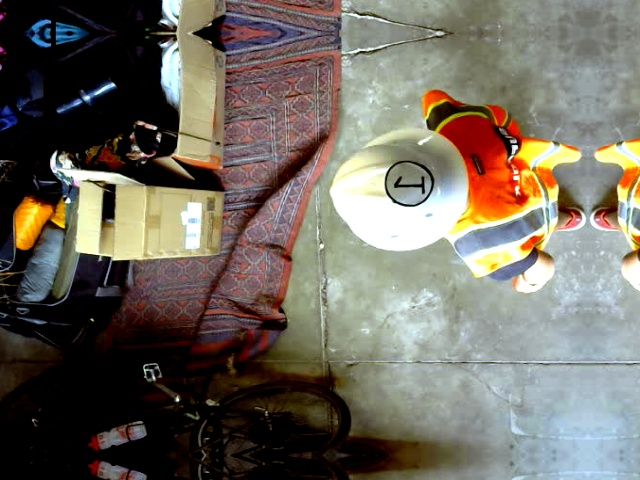one: (384, 160, 432, 205)
